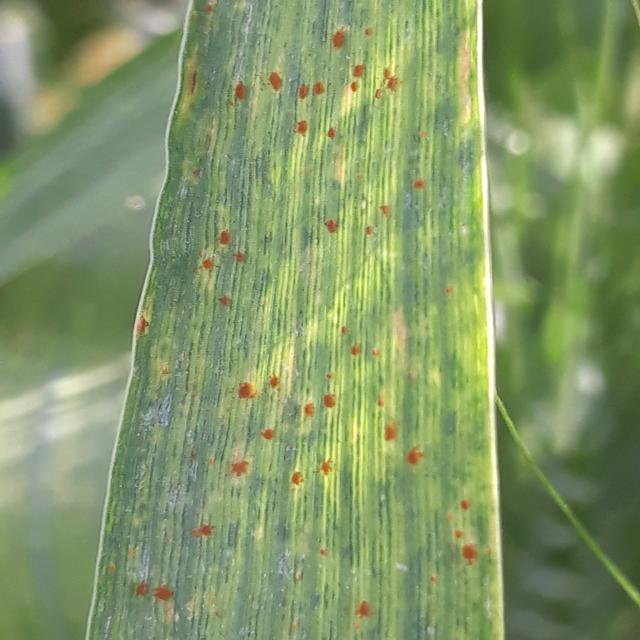orang_rust: (73, 5, 530, 640)
